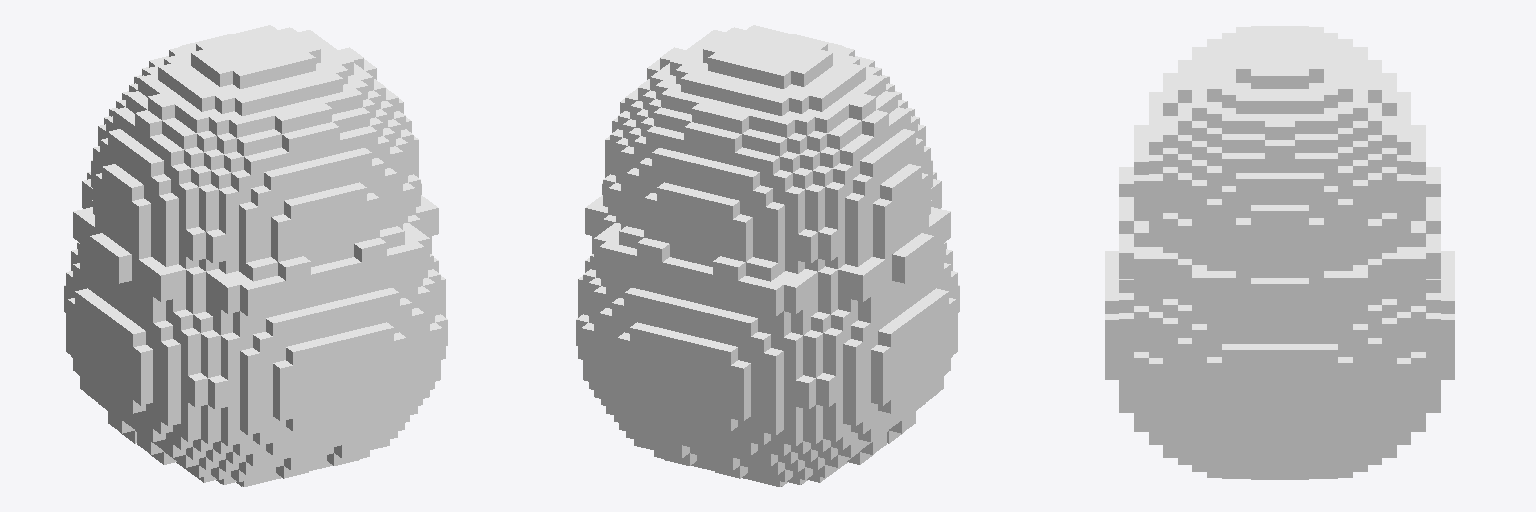
The model's file is umari.obj.
3 views of the same model, side by side, from view 1: azimuth 30°, elevation 25°; view 2: azimuth 150°, elevation 25°; view 3: azimuth 270°, elevation 25° (orthographic).
Visible parts, largest first — view 1: object 1; view 2: object 1; view 3: object 1.
Part boxes in pixels (left/top/right/bottom): object 1: left=64, top=25, right=447, bottom=486; object 1: left=576, top=25, right=959, bottom=486; object 1: left=1105, top=26, right=1454, bottom=479.
Bounding box in the file's own units: 2.4 × 3.1 × 2.4.